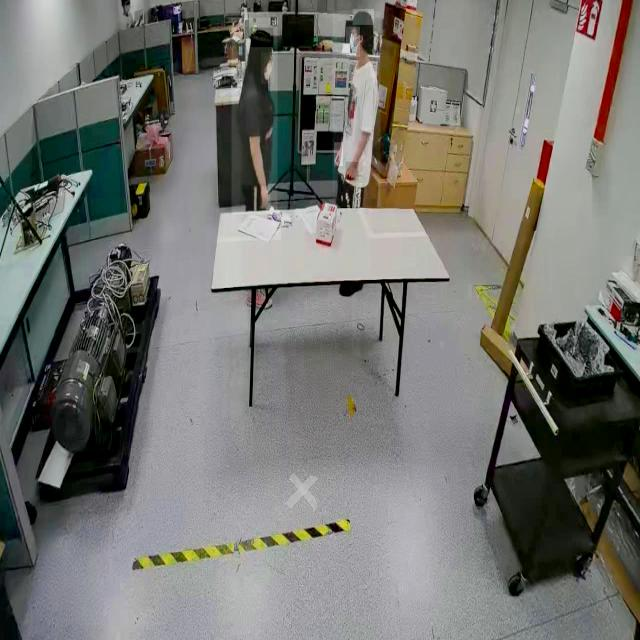face_mask: (260, 52, 274, 84), (346, 27, 360, 58)
hand_noglove: (345, 162, 359, 181), (333, 142, 343, 167), (260, 186, 270, 210)
head_nohelmet: (250, 28, 274, 48), (352, 9, 374, 26)
person: (332, 11, 380, 208), (231, 18, 277, 215)
